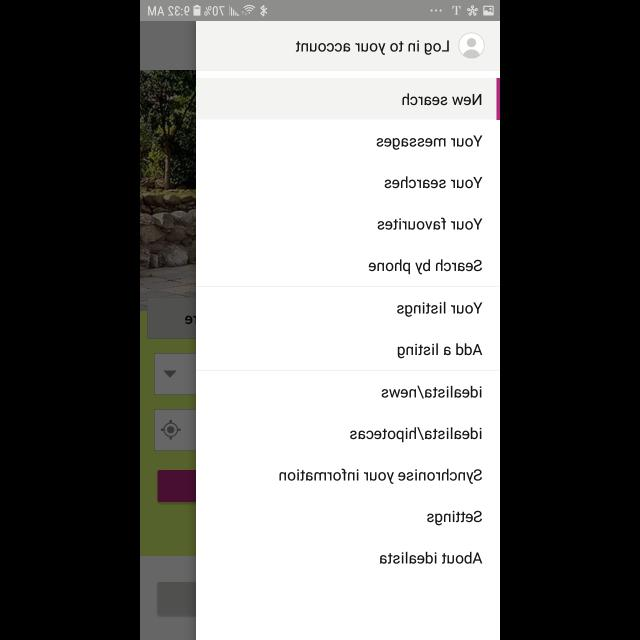icon: (458, 33, 484, 59)
panel: (196, 22, 499, 640)
text: (278, 468, 482, 484), (296, 40, 448, 56), (350, 427, 482, 443), (368, 259, 482, 275), (376, 136, 482, 150), (381, 385, 481, 399), (397, 302, 483, 318), (398, 343, 482, 359), (378, 552, 482, 564), (378, 218, 482, 230), (384, 176, 482, 188), (402, 94, 481, 106), (426, 510, 482, 526)
uppertaskbar: (140, 1, 500, 22)
